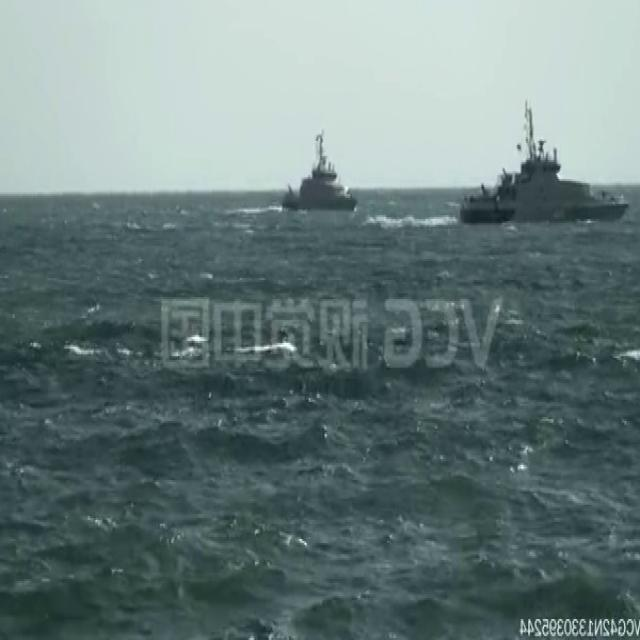houseboat: (459, 105, 627, 232), (286, 126, 360, 210)
